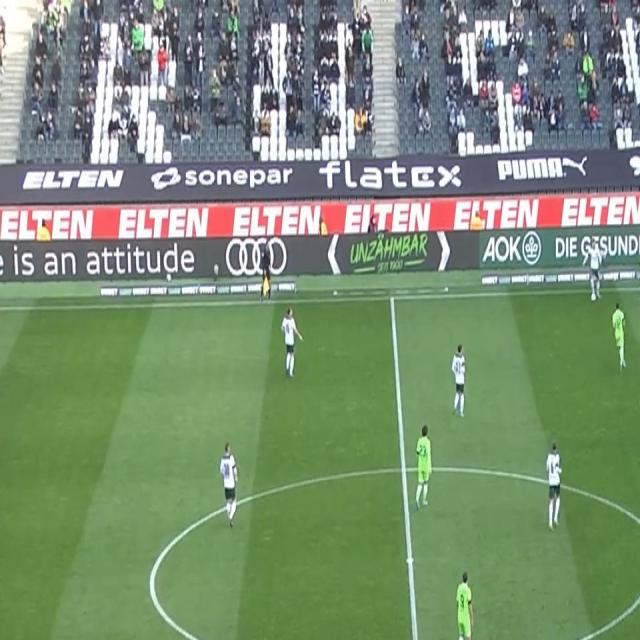ball: (590, 290, 597, 303)
